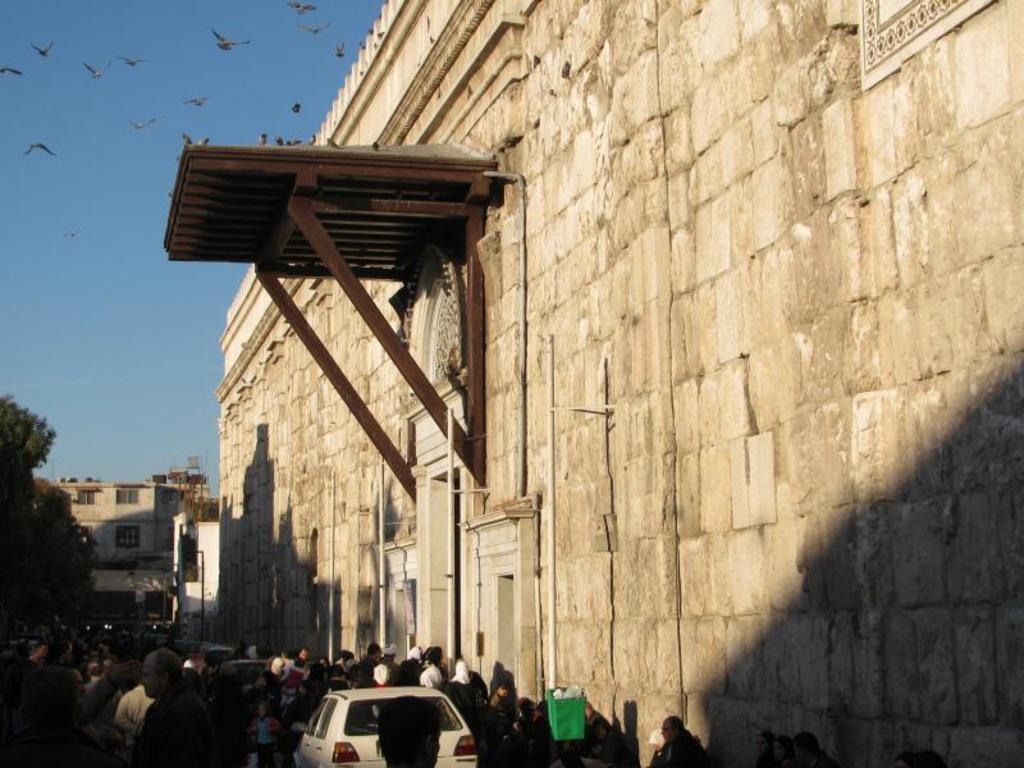cars: (299, 683, 464, 756)
